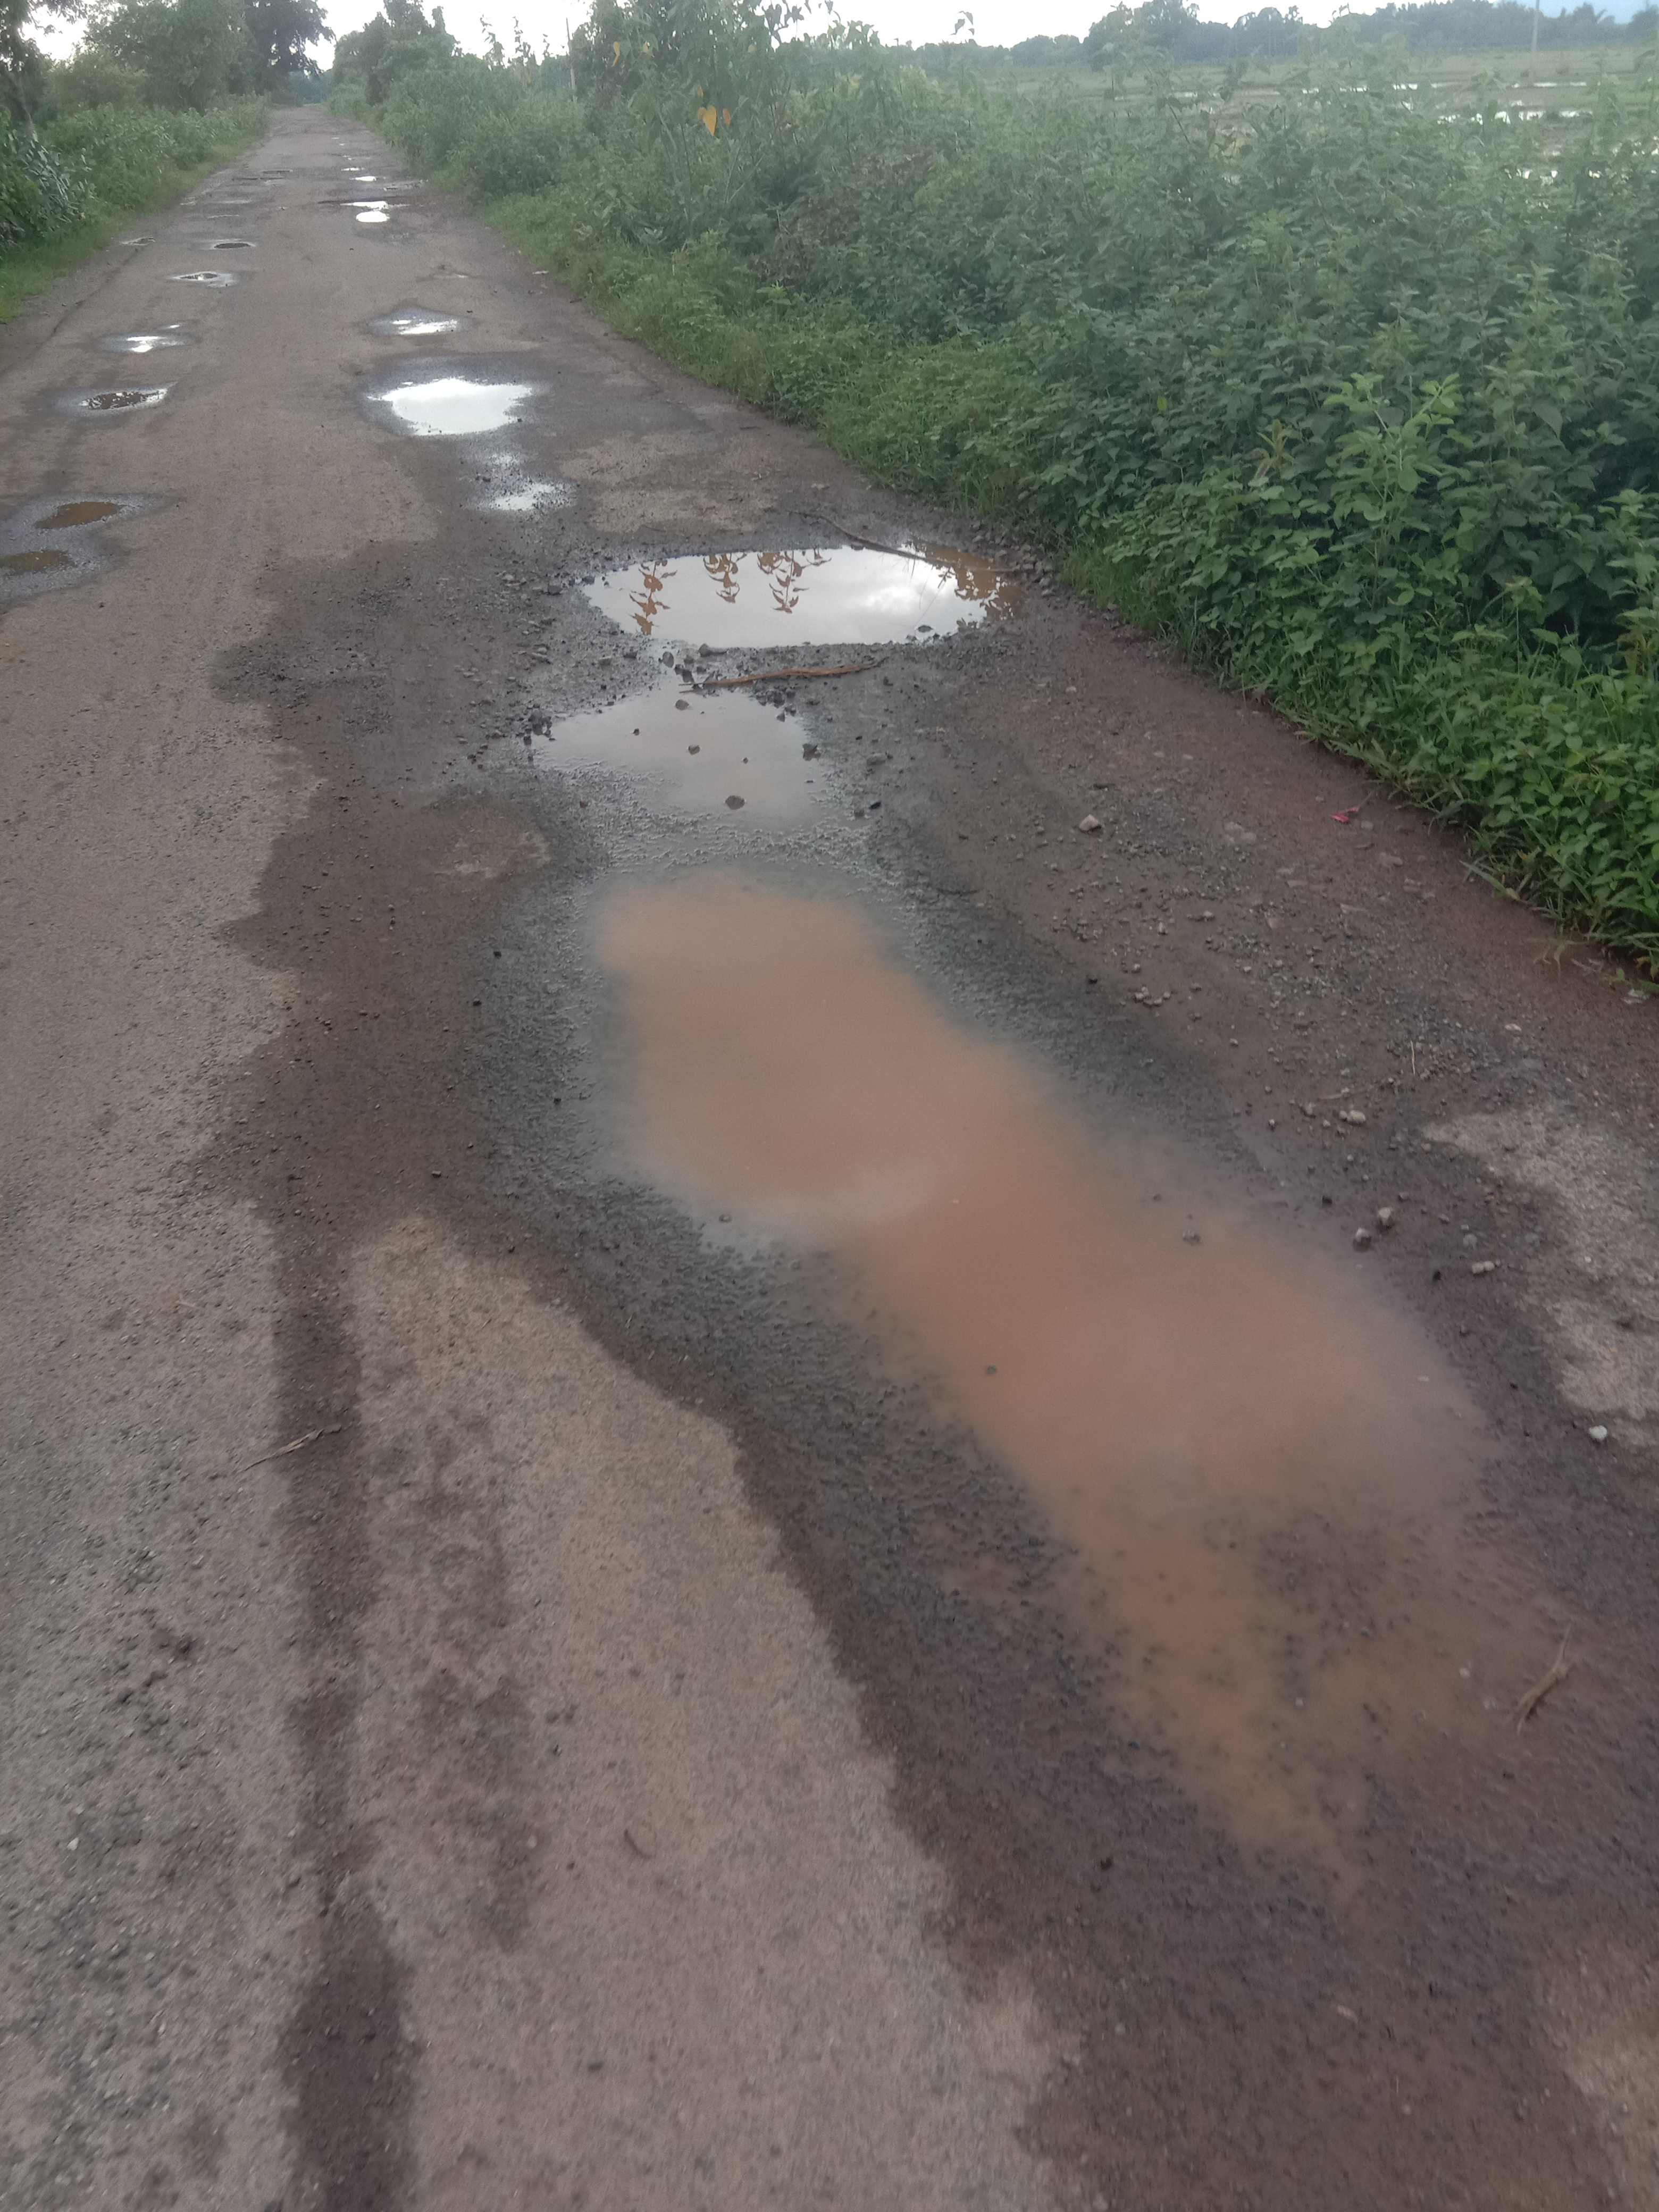potholes: (491, 528, 1568, 1797), (0, 469, 150, 592), (359, 357, 551, 449), (324, 152, 420, 244), (362, 298, 472, 354), (173, 251, 246, 308), (71, 376, 167, 418)
